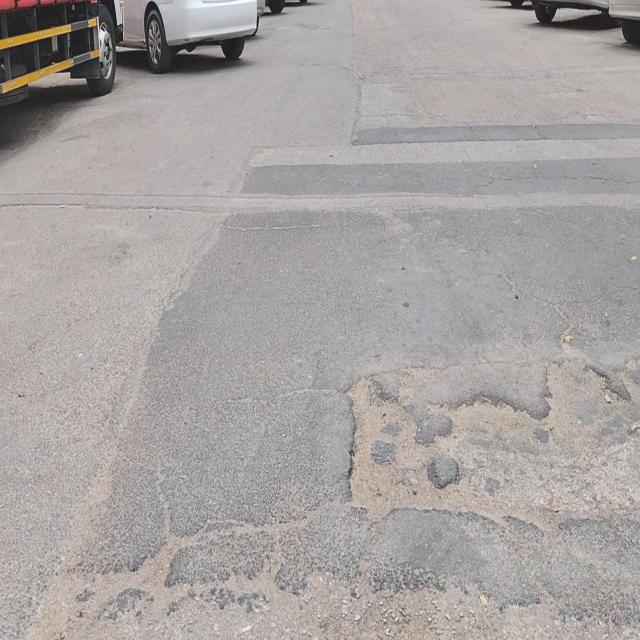Potholes: (344, 369, 459, 534), (455, 385, 550, 527)
